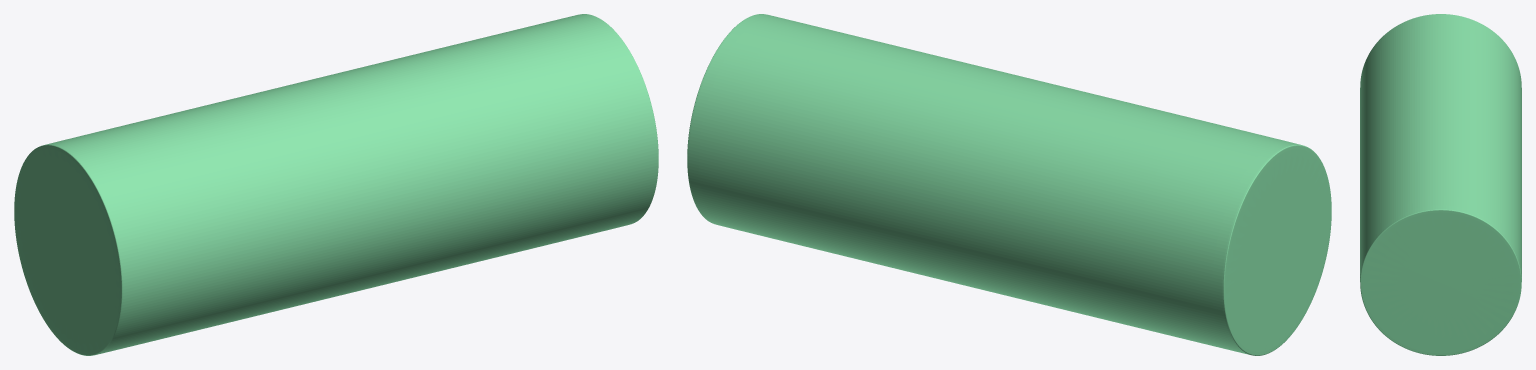
File: Mega_CrawlTunnel_Hi_205835.fbx
The picture shows the model from 3 angles, left to right: view 1: azimuth 30°, elevation 25°; view 2: azimuth 150°, elevation 25°; view 3: azimuth 270°, elevation 25°; orthographic projection. The views are drawn at different scales.
Parts seen in each view (by area): view 1: Cylinder; view 2: Cylinder; view 3: Cylinder.
Boxes of the visible parts, bbox=[...] form: Cylinder: bbox=[14, 14, 658, 355]; Cylinder: bbox=[687, 14, 1331, 355]; Cylinder: bbox=[1360, 14, 1521, 355].
Size of the model in its own units: 8 by 2.79 by 2.79.
